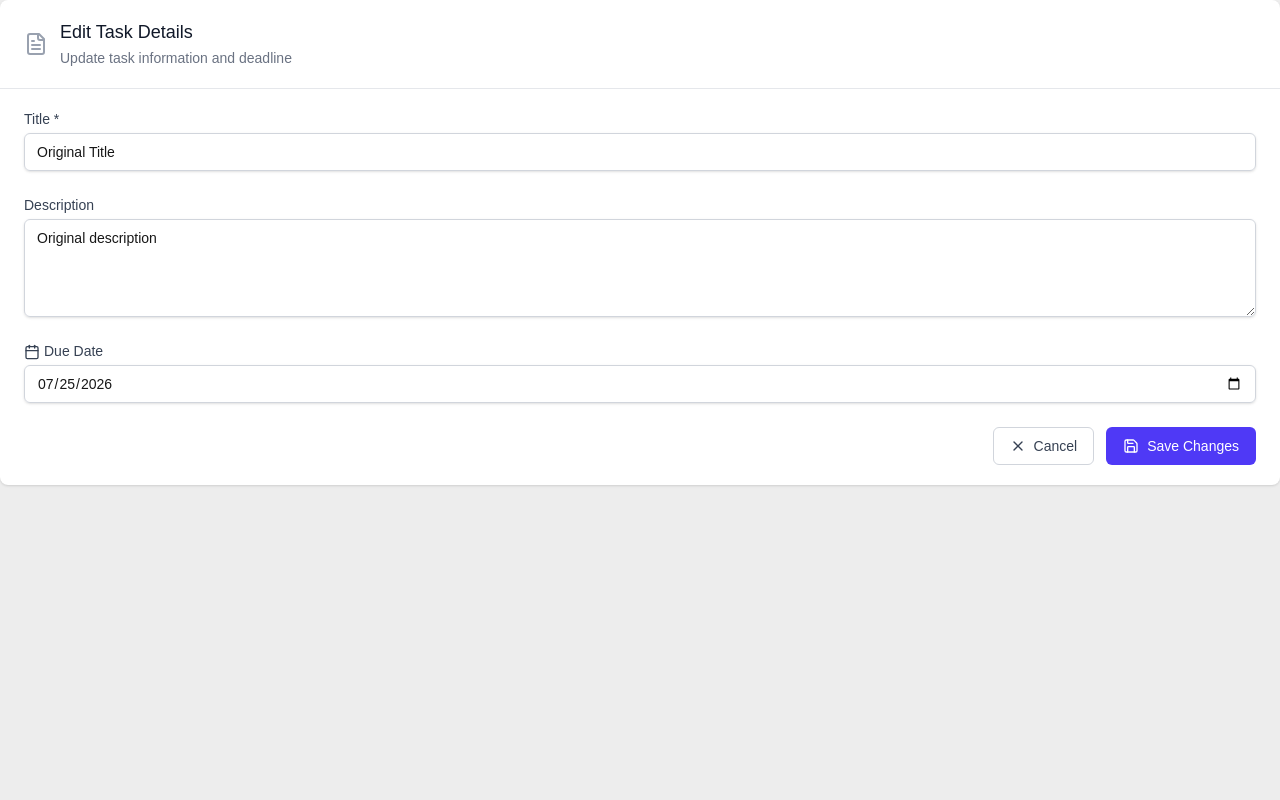
Test: TaskBasicInfoSection — edit mode › shows the server's error message on failure
What coordinates should you click on to do the following:
click the button "Save Changes"
I would click on:
 (1181, 446)
Its box is [1106,427,1256,465].
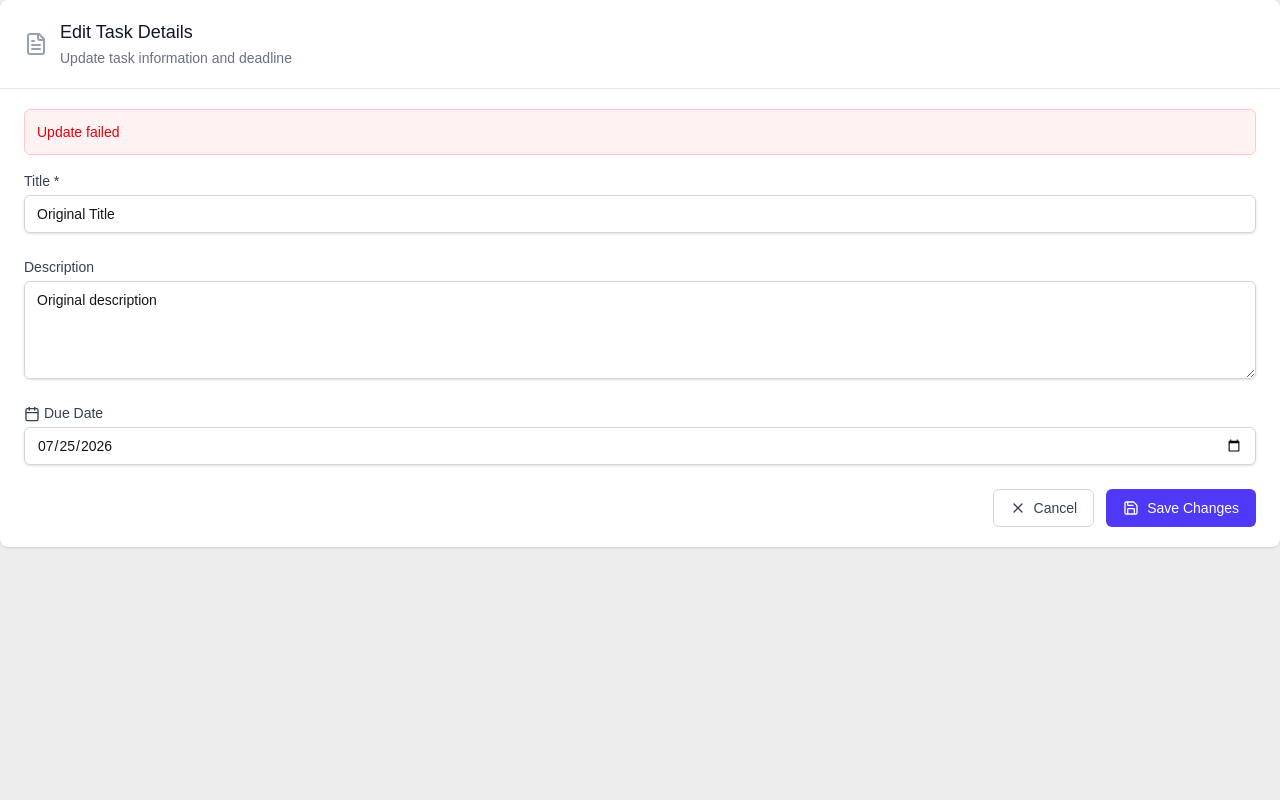
Now the text "Update failed" is shown, box [37,124,120,140]
